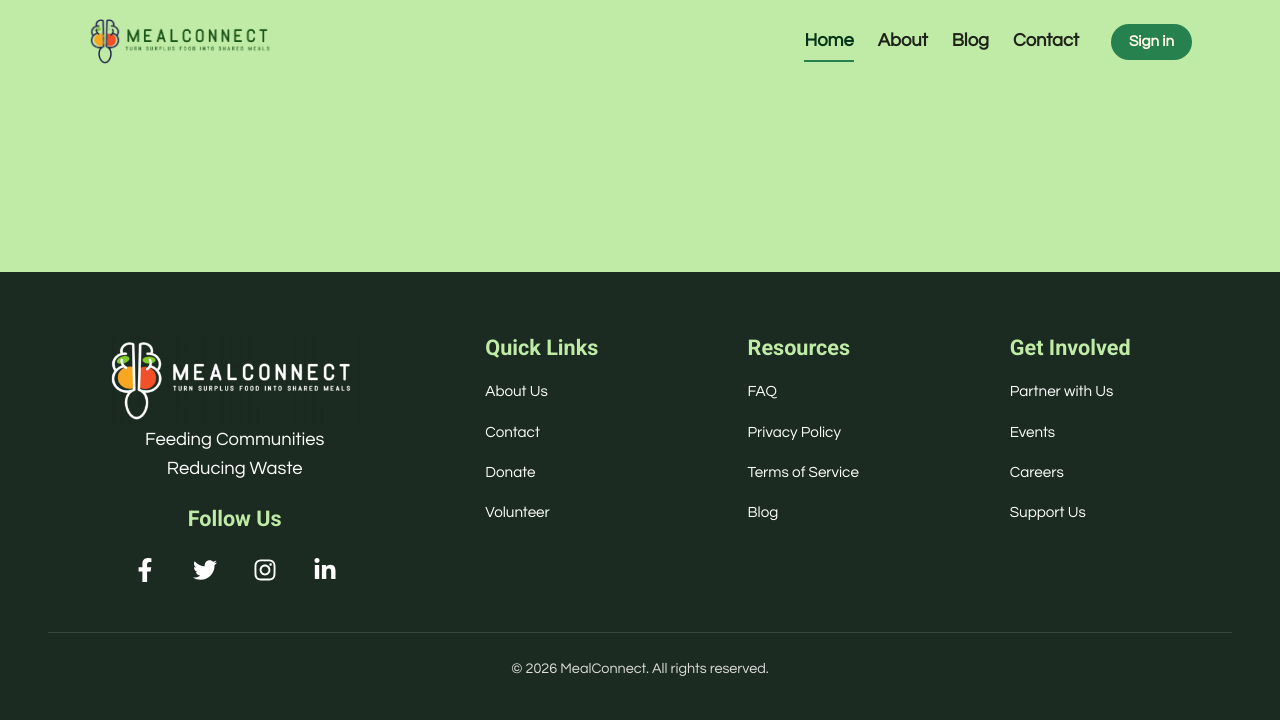
Scenario: footer navigation › footer link Partner with Us resolves to a real page
This screenshot has width=1280, height=720.
(page scrolled)
Click the link "Partner with Us" at (1062, 392), box x1=1010 y1=384 x2=1113 y2=399
(page scrolled)
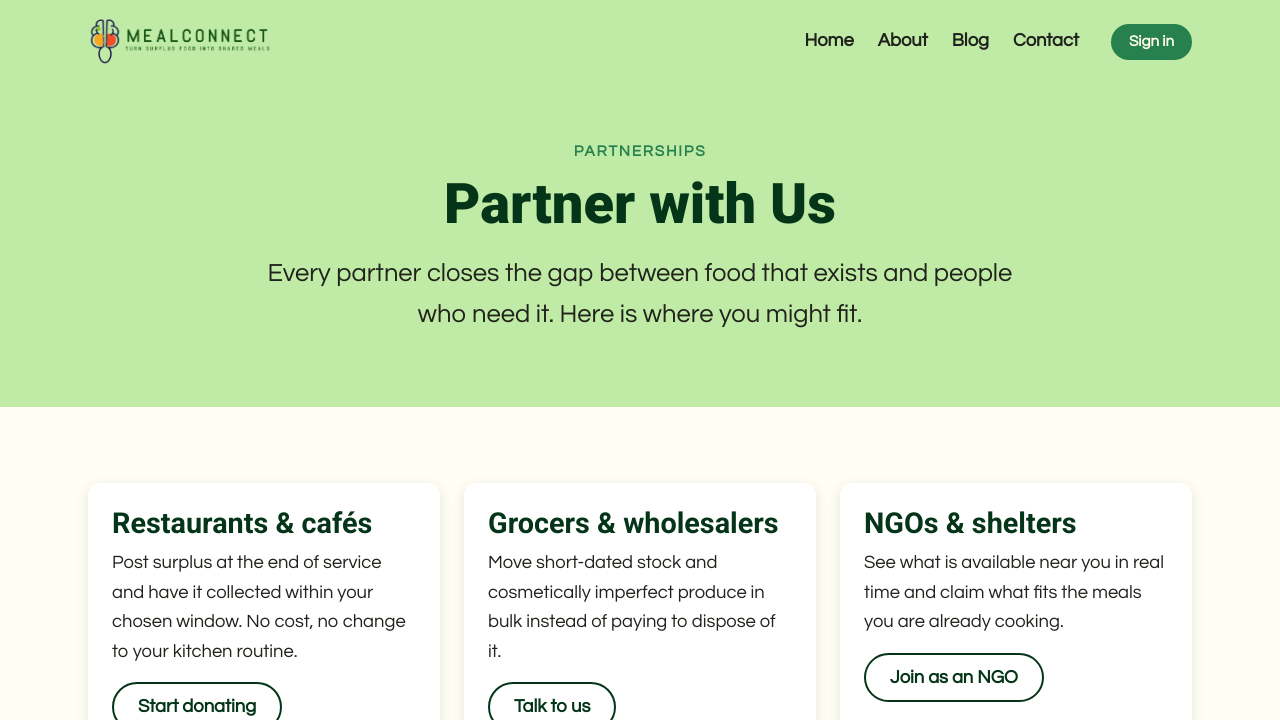
Now the heading "Partner with Us" is shown, box x1=444 y1=171 x2=836 y2=237
